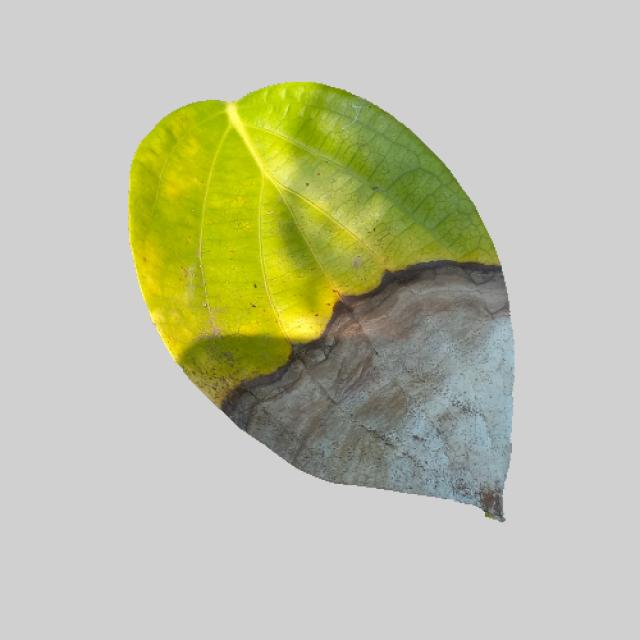leaf-blight: (117, 90, 517, 521)
